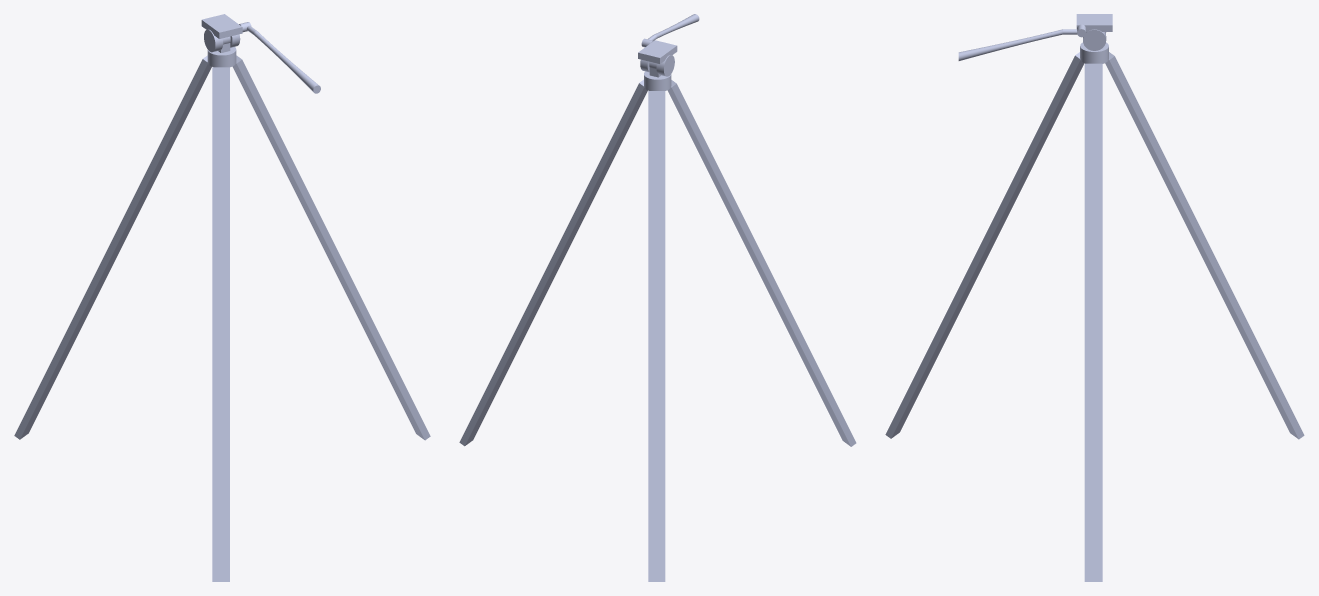
The model's file is trepied2.fbx.
3 views of the same model, side by side, from view 1: azimuth 30°, elevation 25°; view 2: azimuth 150°, elevation 25°; view 3: azimuth 270°, elevation 25° (orthographic). The views are drawn at different scales.
Visible parts, largest first — view 1: Body_1, Body_1_3; view 2: Body_1, Body_1_3; view 3: Body_1, Body_1_3.
Boxes of the visible parts, x1,y1,x2,y2 form: Body_1: [14, 55, 430, 581]; Body_1_3: [201, 14, 320, 93]; Body_1: [459, 79, 856, 581]; Body_1_3: [638, 14, 699, 76]; Body_1: [885, 52, 1304, 581]; Body_1_3: [958, 14, 1112, 60].
Size of the model in its own units: 1.01 by 1.16 by 1.43.
